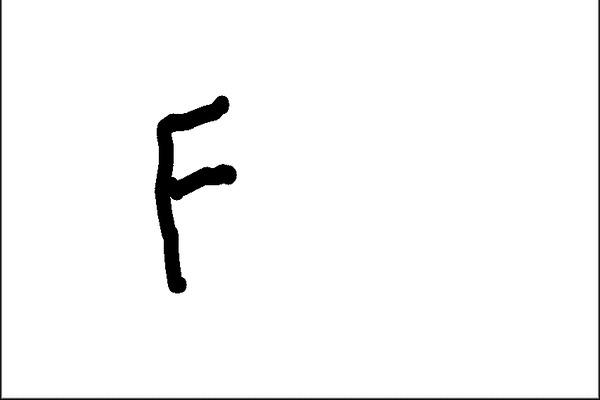F: (151, 91, 240, 296)
